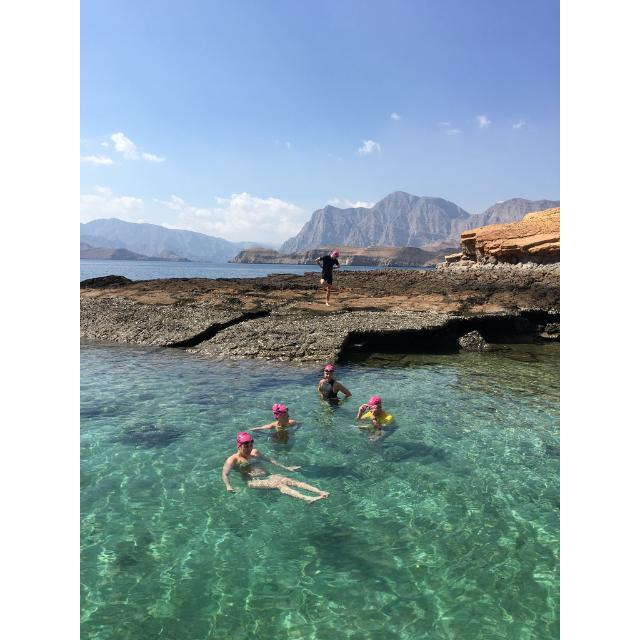human: (225, 425, 330, 516), (357, 392, 395, 444), (321, 362, 350, 408), (255, 402, 293, 437)
